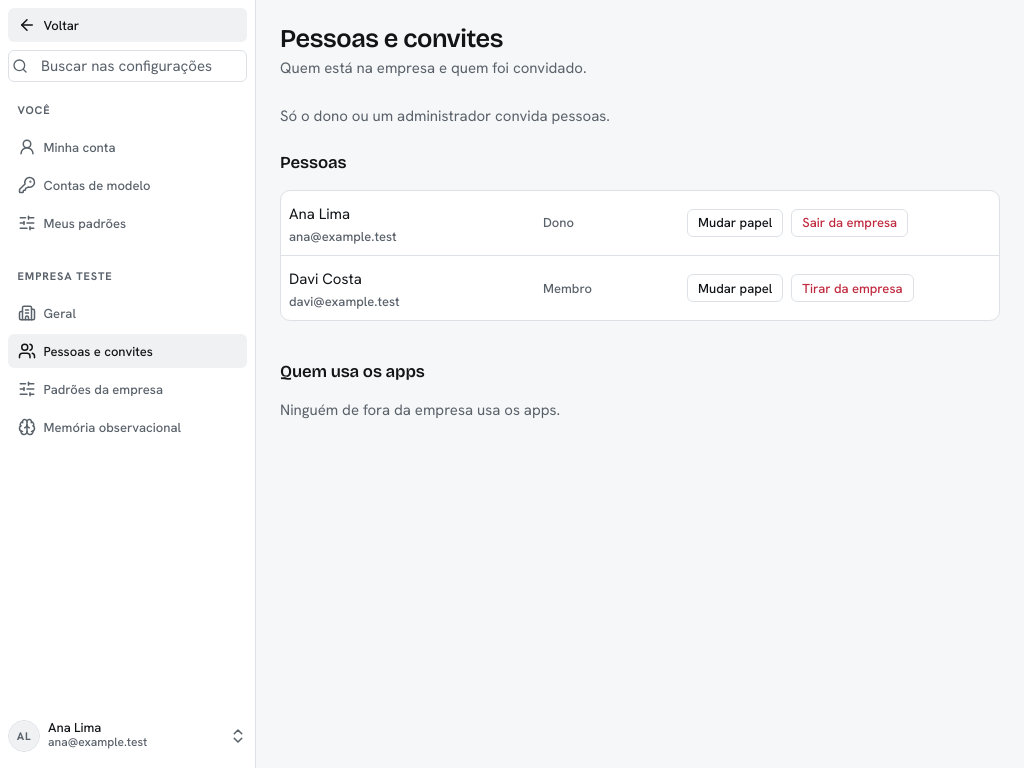
Scenario: recusa nomeada: a frase do Hub no diálogo, que fica aberto
Click the button with aria-label "Mudar papel: Davi Costa": (735,288) [687, 274, 783, 302]
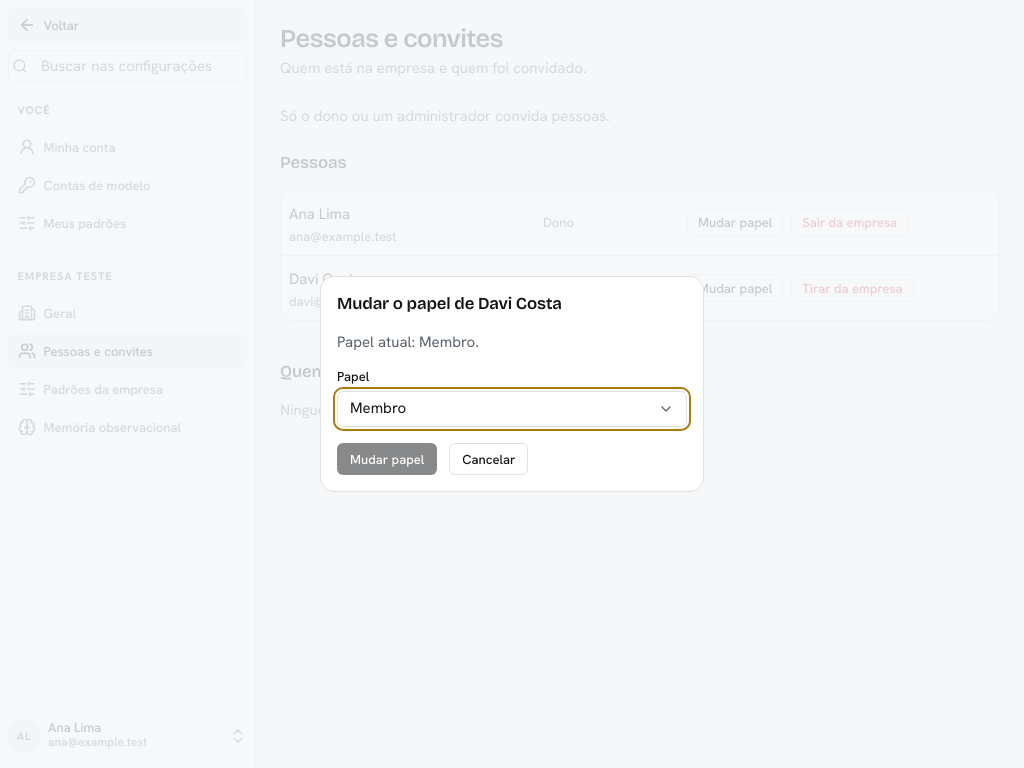
Click the dropdown named "Papel": (378,408) [337, 391, 687, 427]
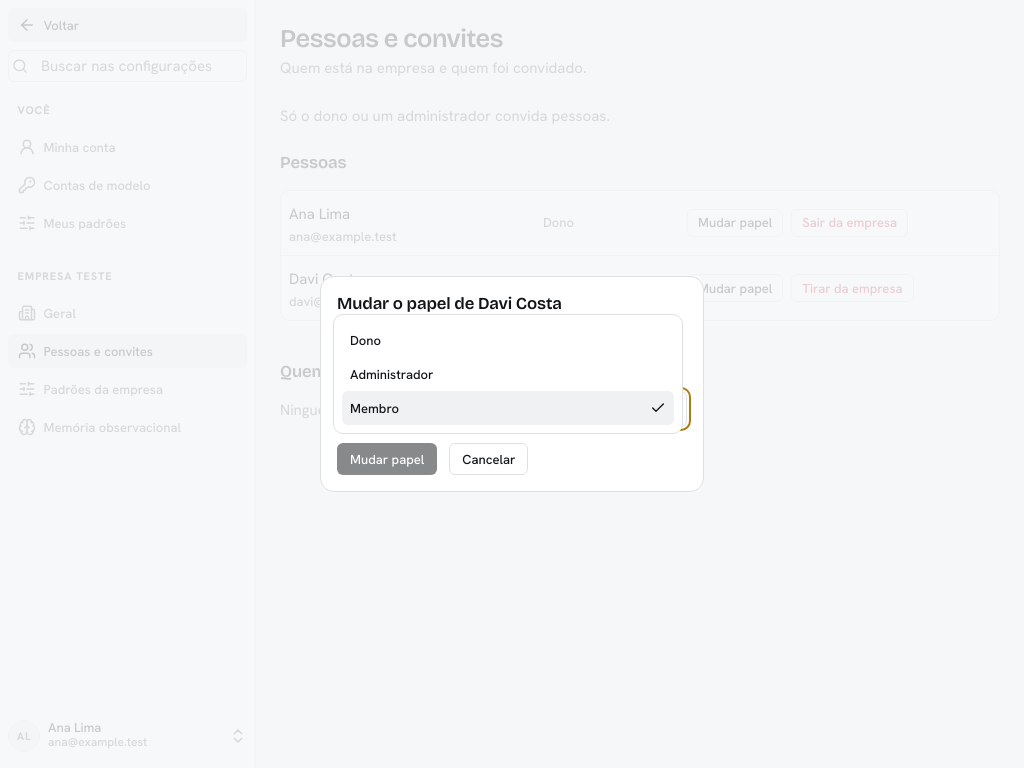
Press the mouse on the option "Administrador": (392,374) [350, 366, 434, 382]
Click the option "Administrador": (392,374) [350, 366, 434, 382]
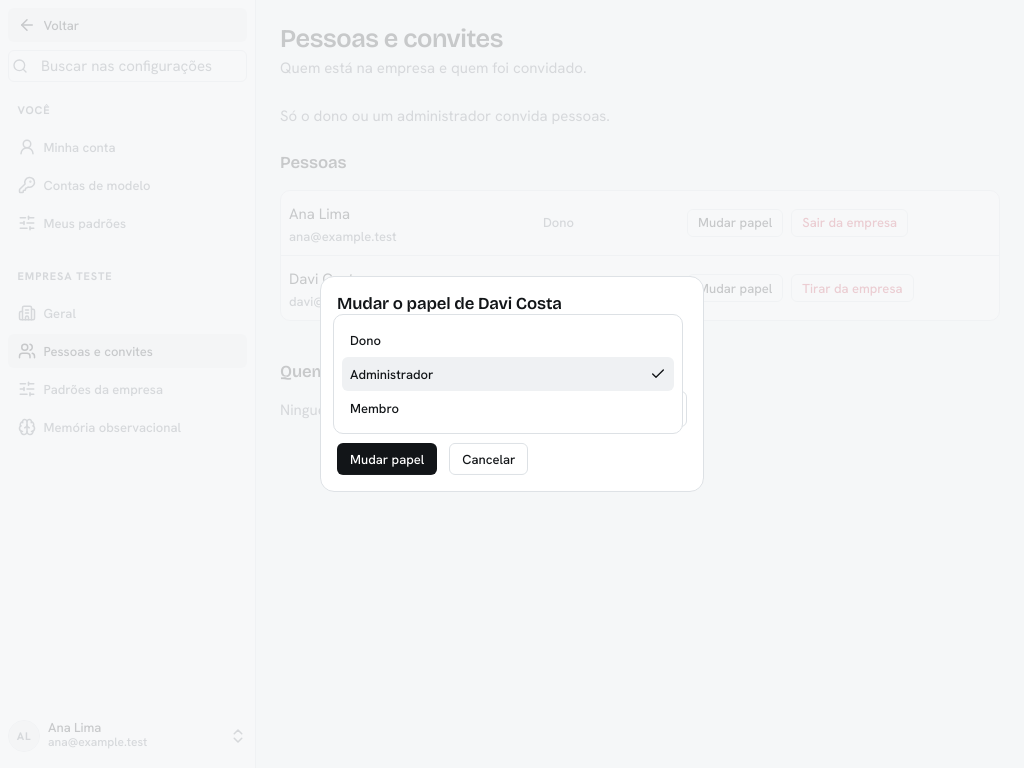
Click the button "Mudar papel": (387,459) [337, 443, 437, 475]
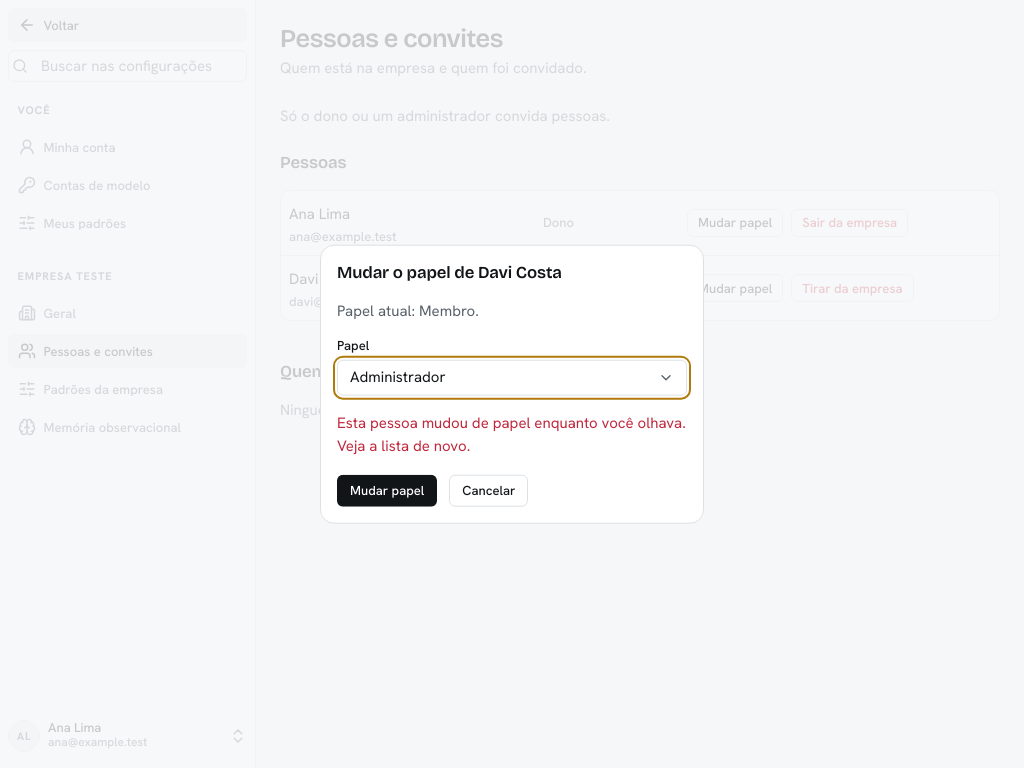
Now the dialog is shown, box [320, 245, 704, 523]
Now the text "Esta pessoa mudou de papel enquanto você olhava. Veja a lista de novo." is shown, box [337, 412, 687, 458]
